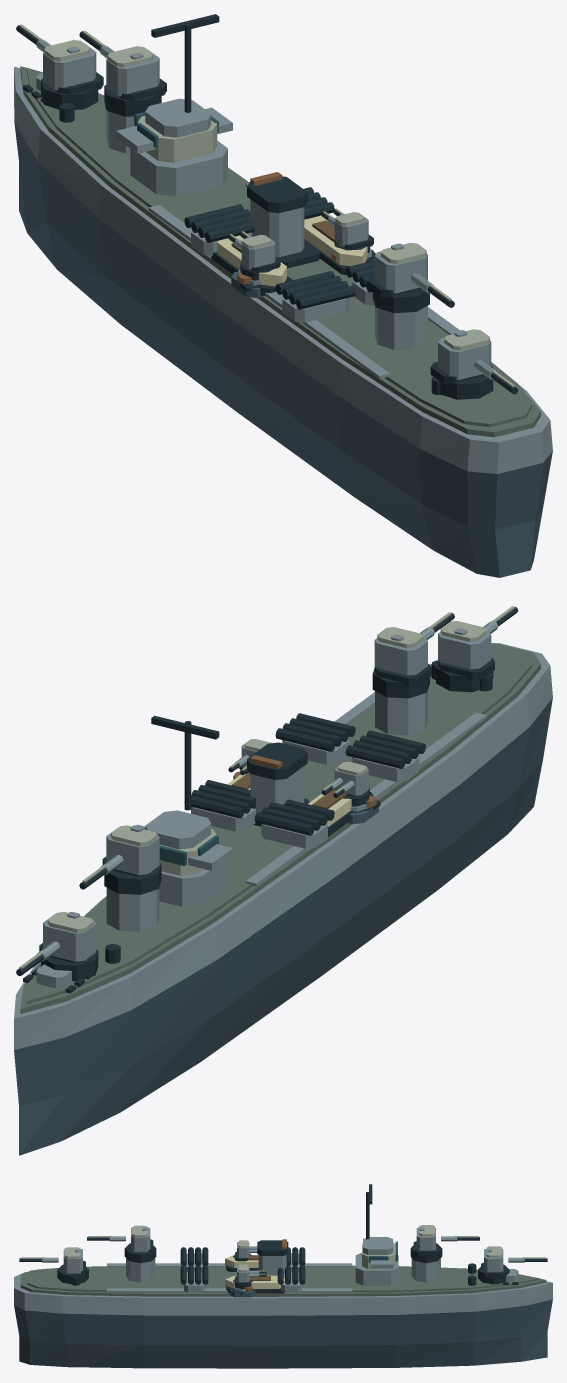
Rendered from historic-benham.glb.
3 renders of one model, top to bottom at view 1: azimuth 30°, elevation 25°; view 2: azimuth 150°, elevation 25°; view 3: azimuth 270°, elevation 25°, orthographic. The views are drawn at different scales.
Visible parts, largest first — view 1: historic-benham-historic-benham-geometry, historic-benham-part_bridge.128-geometry, historic-benham-historic_funnel_0.121-geometry, historic-benham-turret_main_2.076-geometry, historic-benham-turret_main_3.051-geometry, historic-benham-turret_main_0.097-geometry, historic-benham-turret_main_1.090-geometry, historic-benham-torpedo_bank_0.037-geometry, historic-benham-torpedo_bank_2.013-geometry, historic-benham-turret_aa_aa-port.130-geometry, historic-benham-turret_aa_aa-starboard.126-geometry, historic-benham-torpedo_bank_1.034-geometry; view 2: historic-benham-historic-benham-geometry, historic-benham-part_bridge.128-geometry, historic-benham-turret_main_2.076-geometry, historic-benham-turret_main_1.090-geometry, historic-benham-turret_main_3.051-geometry, historic-benham-turret_main_0.097-geometry, historic-benham-historic_funnel_0.121-geometry, historic-benham-torpedo_bank_2.013-geometry, historic-benham-torpedo_bank_0.037-geometry, historic-benham-torpedo_bank_1.034-geometry, historic-benham-torpedo_bank_3.008-geometry, historic-benham-turret_aa_aa-port.130-geometry; view 3: historic-benham-historic-benham-geometry, historic-benham-part_bridge.128-geometry, historic-benham-turret_main_1.090-geometry, historic-benham-turret_main_2.076-geometry, historic-benham-turret_main_0.097-geometry, historic-benham-turret_main_3.051-geometry, historic-benham-historic_funnel_0.121-geometry, historic-benham-torpedo_bank_1.034-geometry, historic-benham-torpedo_bank_3.008-geometry, historic-benham-torpedo_bank_0.037-geometry, historic-benham-turret_aa_aa-starboard.126-geometry, historic-benham-torpedo_bank_2.013-geometry (+1 smaller).
Boxes of the visible parts, x1,y1,x2,y2 form: historic-benham-historic-benham-geometry: (14, 66, 552, 577); historic-benham-part_bridge.128-geometry: (116, 14, 232, 196); historic-benham-historic_funnel_0.121-geometry: (247, 172, 319, 268); historic-benham-turret_main_2.076-geometry: (367, 242, 454, 313); historic-benham-turret_main_3.051-geometry: (430, 329, 518, 399); historic-benham-turret_main_0.097-geometry: (16, 24, 103, 109); historic-benham-turret_main_1.090-geometry: (79, 30, 166, 116); historic-benham-torpedo_bank_0.037-geometry: (275, 271, 355, 322); historic-benham-torpedo_bank_2.013-geometry: (184, 204, 254, 255); historic-benham-turret_aa_aa-port.130-geometry: (228, 231, 280, 280); historic-benham-turret_aa_aa-starboard.126-geometry: (321, 208, 373, 253); historic-benham-torpedo_bank_1.034-geometry: (345, 260, 374, 305); historic-benham-historic-benham-geometry: (14, 643, 552, 1155); historic-benham-part_bridge.128-geometry: (136, 715, 232, 906); historic-benham-turret_main_2.076-geometry: (372, 612, 454, 698); historic-benham-turret_main_1.090-geometry: (79, 825, 161, 894); historic-benham-turret_main_3.051-geometry: (436, 606, 518, 692); historic-benham-turret_main_0.097-geometry: (16, 911, 98, 981); historic-benham-historic_funnel_0.121-geometry: (247, 742, 309, 826); historic-benham-torpedo_bank_2.013-geometry: (254, 799, 334, 848); historic-benham-torpedo_bank_0.037-geometry: (345, 730, 425, 781); historic-benham-torpedo_bank_1.034-geometry: (275, 713, 355, 764); historic-benham-torpedo_bank_3.008-geometry: (184, 780, 255, 831); historic-benham-turret_aa_aa-port.130-geometry: (321, 761, 369, 806); historic-benham-historic-benham-geometry: (14, 1255, 552, 1368); historic-benham-part_bridge.128-geometry: (355, 1184, 398, 1285); historic-benham-turret_main_1.090-geometry: (410, 1225, 479, 1263); historic-benham-turret_main_2.076-geometry: (87, 1225, 156, 1263); historic-benham-turret_main_0.097-geometry: (478, 1246, 547, 1284); historic-benham-turret_main_3.051-geometry: (19, 1247, 88, 1284); historic-benham-historic_funnel_0.121-geometry: (255, 1239, 288, 1275); historic-benham-torpedo_bank_1.034-geometry: (180, 1265, 208, 1292); historic-benham-torpedo_bank_3.008-geometry: (277, 1265, 305, 1292); historic-benham-torpedo_bank_0.037-geometry: (180, 1247, 208, 1271); historic-benham-turret_aa_aa-starboard.126-geometry: (233, 1264, 266, 1289); historic-benham-torpedo_bank_2.013-geometry: (286, 1247, 305, 1271).
Bounding box in the file's own units: 0.6322 × 1.39 × 4.11.
